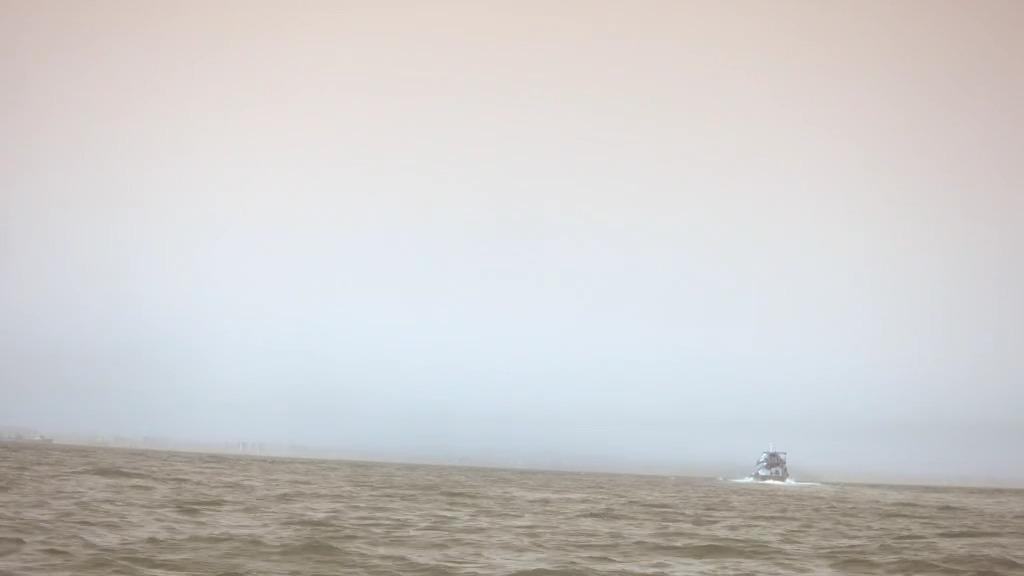PassengerShip: (750, 445, 794, 485)
